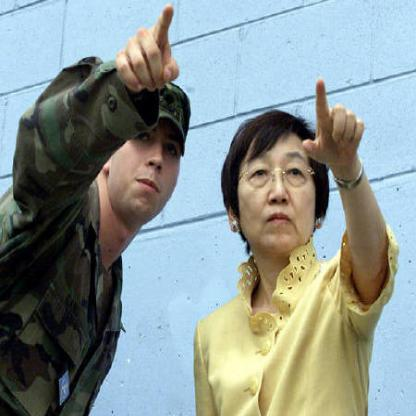face: (234, 117, 322, 257), (113, 92, 184, 228)
